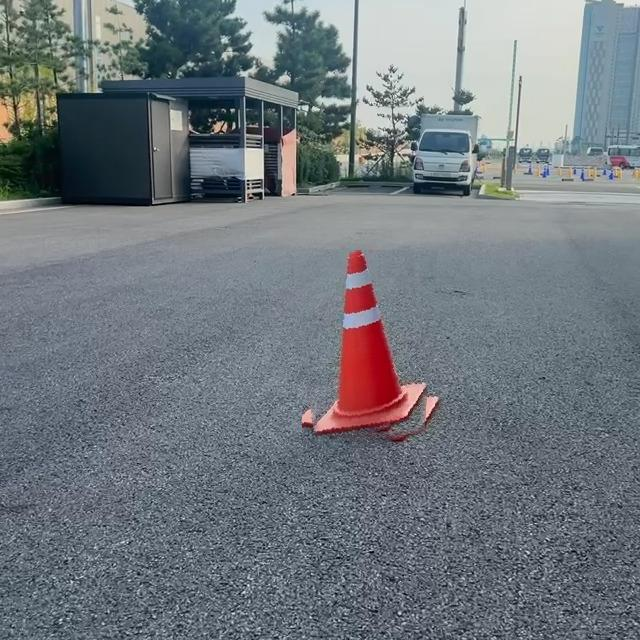fallen_object: (317, 239, 440, 434)
